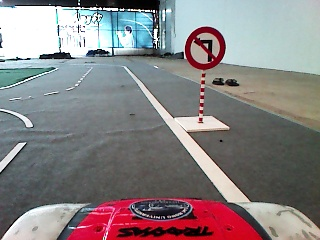ban: (181, 24, 228, 74)
